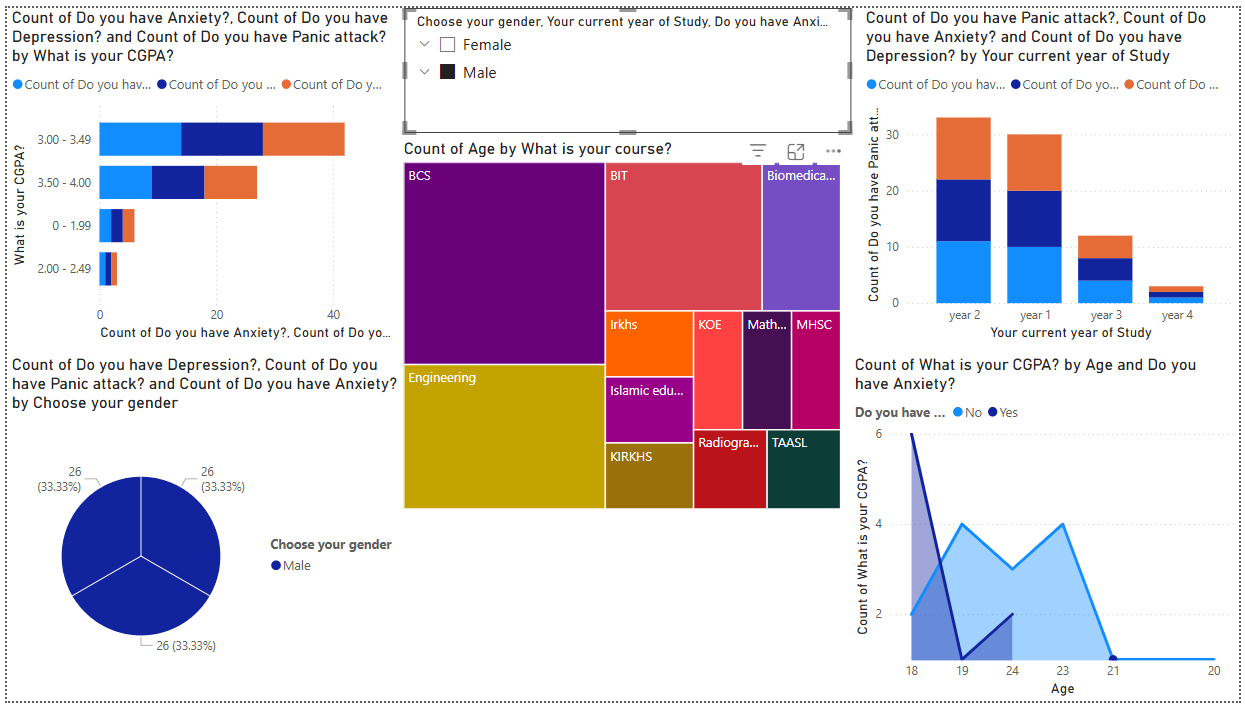

This screenshot's page, from the dashboard's own definition file:
{"tool":"powerbi","page":{"name":"Page 1","canvas":[1280,720],"ordinal":0},"visuals":[{"type":"barChart","fields":{"Category":["Student Mental health.What is your CGPA?"],"Y":["CountNonNull(Student Mental health.Do you have Anxiety?)","CountNonNull(Student Mental health.Do you have Depression?)","CountNonNull(Student Mental health.Do you have Panic attack?)"]},"box":[0,0,411.4,350],"z":0},{"type":"pieChart","fields":{"Category":["Student Mental health.Choose your gender"],"Y":["CountNonNull(Student Mental health.Do you have Depression?)","CountNonNull(Student Mental health.Do you have Panic attack?)","CountNonNull(Student Mental health.Do you have Anxiety?)"]},"box":[0,360,411.4,360],"z":1000},{"type":"columnChart","fields":{"Category":["Student Mental health.Your current year of Study"],"Y":["CountNonNull(Student Mental health.Do you have Panic attack?)","CountNonNull(Student Mental health.Do you have Anxiety?)","CountNonNull(Student Mental health.Do you have Depression?)"]},"box":[887.1,0,392.9,350],"z":2000},{"type":"areaChart","fields":{"Category":["Student Mental health.Age"],"Y":["CountNonNull(Student Mental health.What is your CGPA?)"],"Series":["Student Mental health.Do you have Anxiety?"]},"box":[875.7,360,404.3,360],"z":3000},{"type":"treemap","fields":{"Group":["Student Mental health.What is your course?"],"Values":["CountNonNull(Student Mental health.Age)"]},"box":[407.1,135.7,464.3,390],"z":4000},{"type":"slicer","fields":{"Values":["Student Mental health.Choose your gender","Student Mental health.Your current year of Study","Student Mental health.Do you have Anxiety?","Student Mental health.Do you have Depression?","Student Mental health.Do you have Panic attack?"]},"box":[412.9,0,464.3,130],"z":5000}]}

Visuals, with their boxes in screenshot pixels (x1, y1, x2, y2), scaled from the page's 1280x720 canvas onto the 1245x709 screenshot:
barChart - Student Mental health.What is your CGPA? x CountNonNull(Student Mental health.Do you have Anxiety?): x1=0 y1=0 x2=400 y2=345
pieChart - Student Mental health.Choose your gender x CountNonNull(Student Mental health.Do you have Depression?): x1=0 y1=354 x2=400 y2=708
columnChart - Student Mental health.Your current year of Study x CountNonNull(Student Mental health.Do you have Panic attack?): x1=863 y1=0 x2=1244 y2=345
areaChart - Student Mental health.Age x CountNonNull(Student Mental health.What is your CGPA?): x1=852 y1=354 x2=1244 y2=708
treemap - Student Mental health.What is your course? x CountNonNull(Student Mental health.Age): x1=396 y1=134 x2=848 y2=518
slicer - Student Mental health.Choose your gender x Student Mental health.Your current year of Study: x1=402 y1=0 x2=853 y2=128
